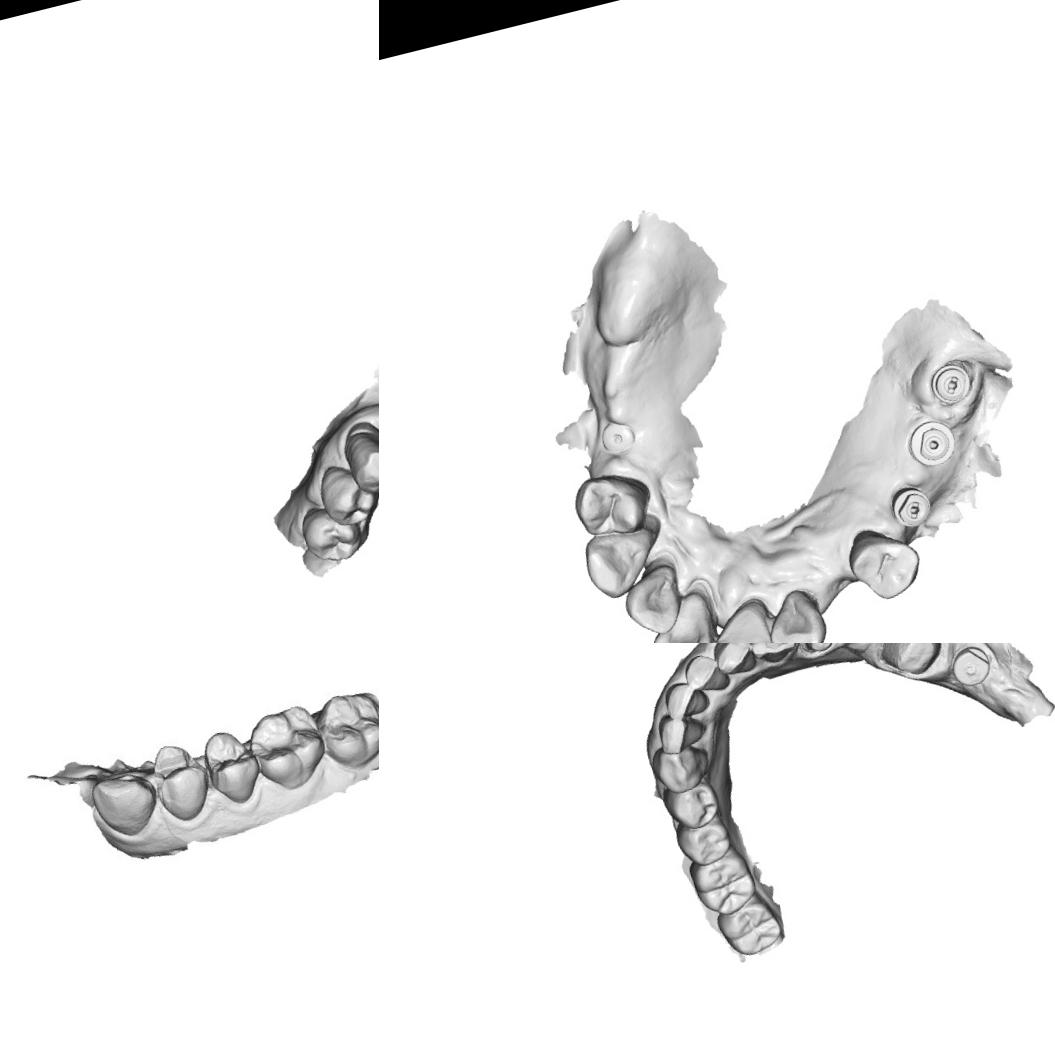canine: (576, 520, 667, 606), (90, 770, 158, 840), (646, 736, 719, 799), (339, 415, 379, 493), (739, 643, 801, 669)
crown: (871, 643, 949, 684), (793, 643, 840, 657)
implant: (902, 414, 960, 472), (943, 643, 998, 692), (594, 413, 642, 461)
implant_minus: (927, 358, 977, 410), (888, 482, 934, 532)
incisor: (615, 559, 693, 643), (636, 585, 725, 643), (758, 584, 832, 643), (699, 603, 780, 643), (650, 705, 710, 759), (677, 643, 732, 700), (656, 674, 712, 726), (708, 643, 759, 680)
molar: (242, 700, 330, 796), (309, 682, 379, 774), (710, 886, 790, 963), (687, 847, 760, 923)
premolar: (838, 518, 929, 609), (565, 462, 656, 548), (146, 738, 216, 822), (296, 497, 370, 572), (311, 454, 379, 533), (199, 722, 263, 804), (670, 812, 736, 872), (660, 778, 726, 835)
